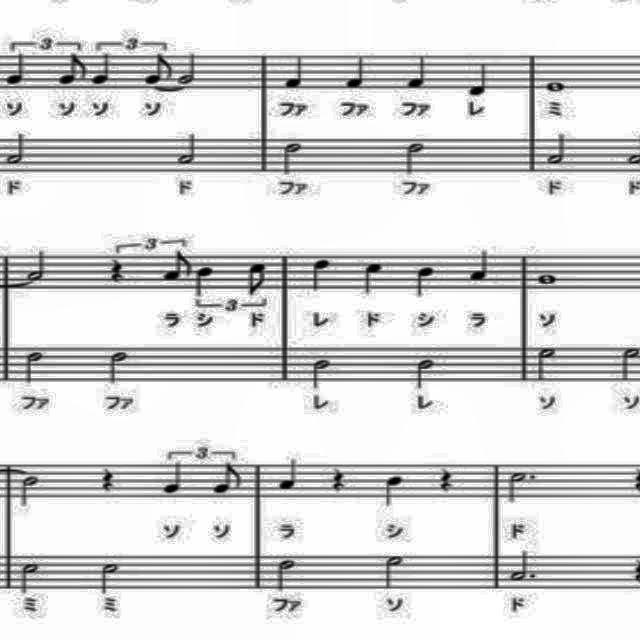Eighth-note: (158, 243, 194, 289), (208, 458, 246, 498), (56, 48, 88, 92), (140, 52, 177, 86), (242, 259, 270, 297)
Full-note: (529, 267, 563, 291), (539, 77, 577, 95)
Half-dot: (504, 457, 538, 509), (507, 542, 538, 590)
Half-note: (14, 469, 51, 511), (378, 548, 407, 596), (396, 138, 432, 176), (539, 130, 573, 170), (412, 352, 442, 396), (529, 340, 559, 384), (308, 351, 336, 394), (97, 558, 127, 598), (173, 49, 205, 86), (22, 346, 50, 388), (16, 546, 40, 594), (3, 126, 29, 170), (106, 346, 134, 386), (272, 554, 300, 594), (172, 129, 200, 167), (618, 338, 640, 386), (280, 135, 304, 177), (24, 248, 50, 284)
Quarter-note: (354, 256, 390, 298), (407, 260, 441, 304), (305, 250, 337, 294), (156, 458, 188, 502), (381, 468, 412, 512), (278, 50, 310, 90), (402, 50, 432, 92), (341, 51, 369, 94), (466, 55, 492, 101), (2, 48, 30, 90), (188, 260, 216, 300), (466, 246, 494, 286), (274, 456, 302, 496), (88, 50, 114, 86)
Quarter-rest: (431, 456, 459, 498), (326, 462, 354, 493), (104, 252, 128, 288), (96, 464, 120, 498)
